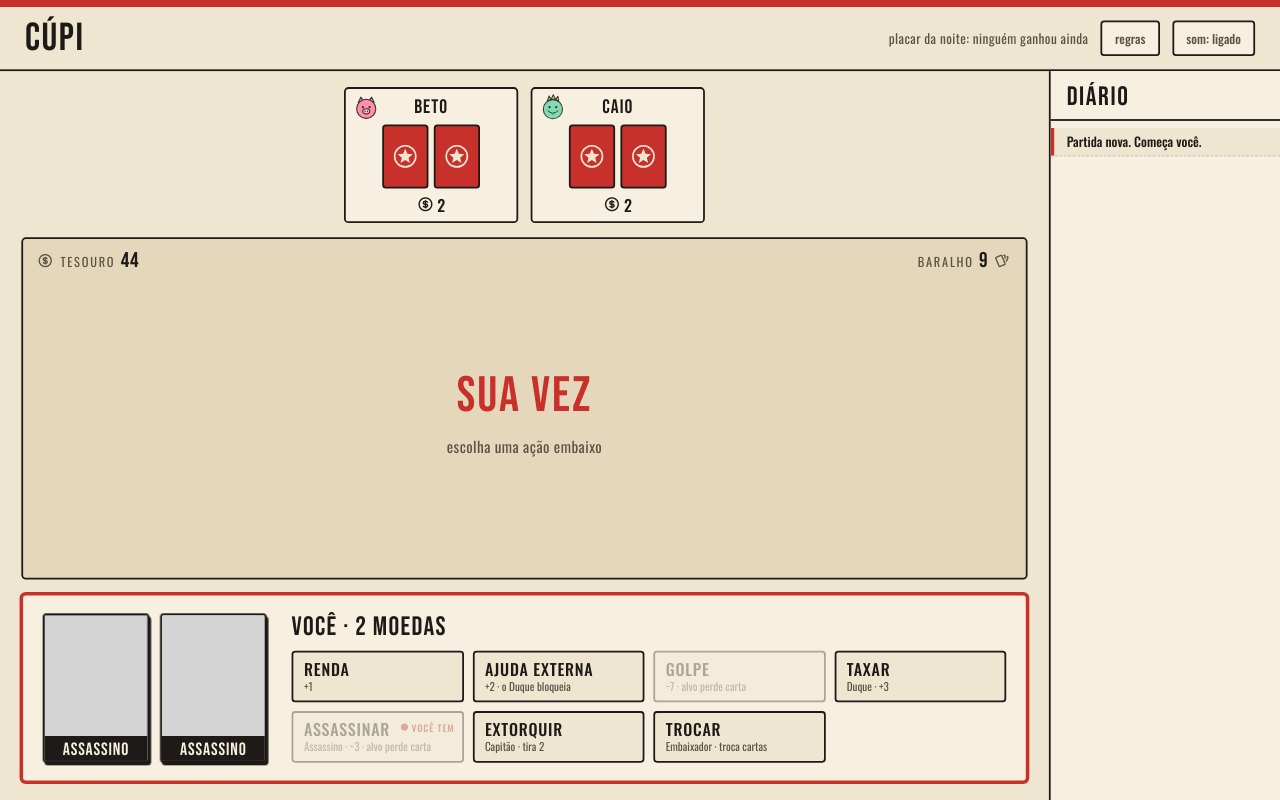
Test case: dica rápida nas ações › passar o mouse mostra o balão; sair esconde
Hover over the button "taxar Duque · +3": (920, 676) [834,651,1006,702]
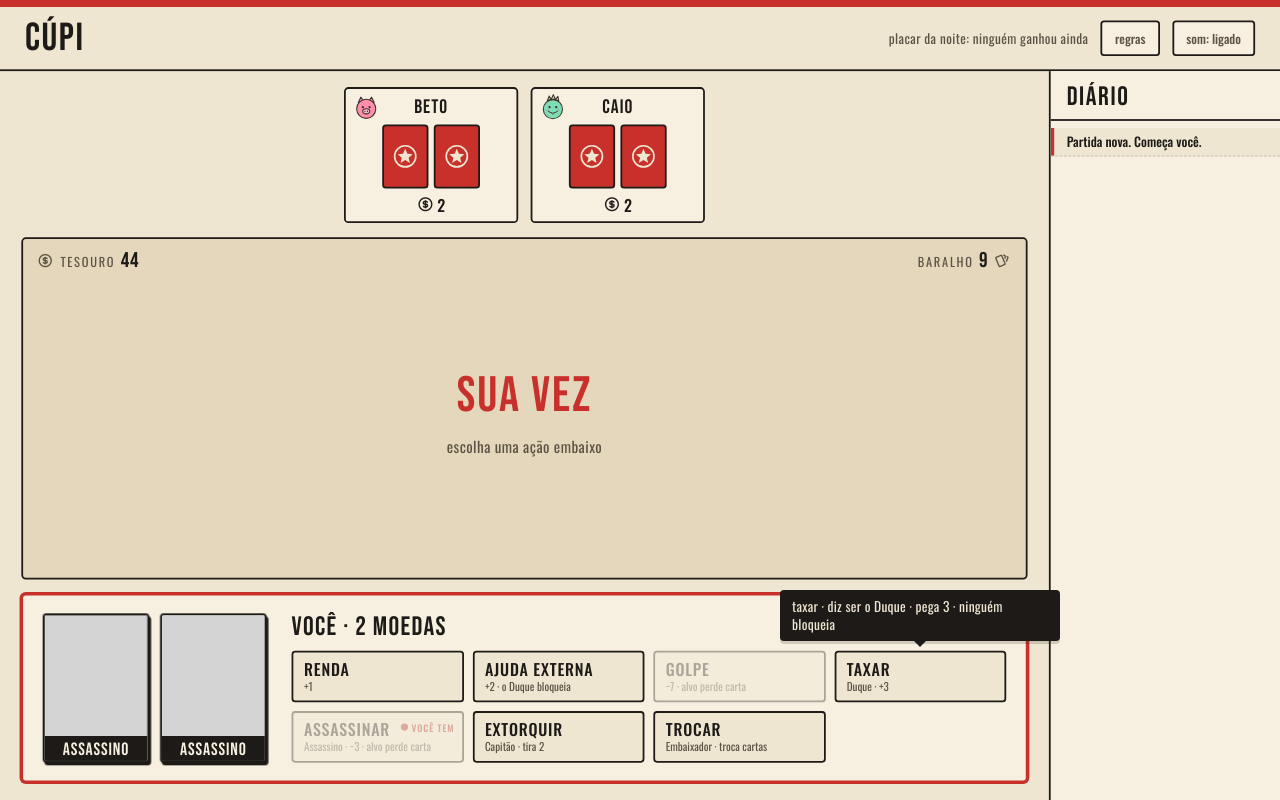
Result: the text with class "cp-tip" reads "taxar · diz ser o Duque · pega 3 · ninguém bloqueia" at [792,596,1003,634]
Move the pointer off the button "taxar Duque · +3", box [834,651,1006,702]
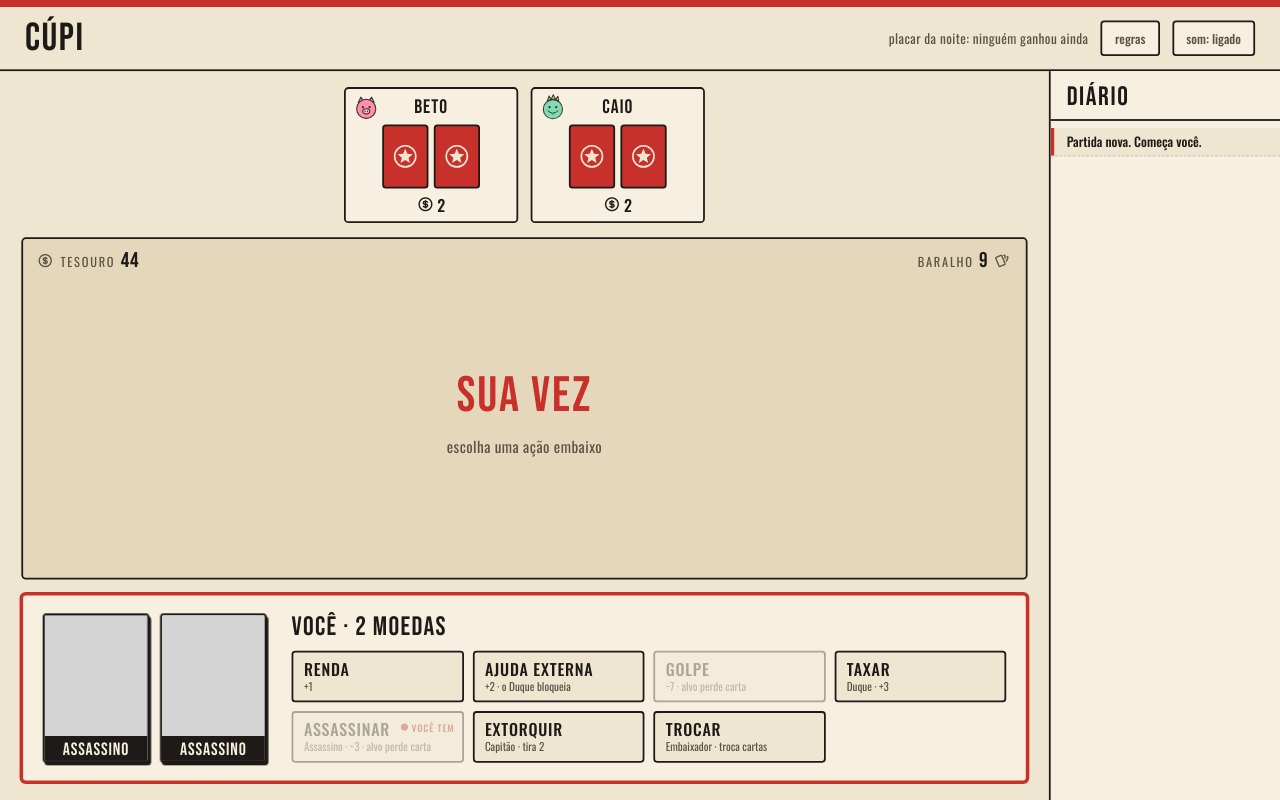
Result: the text with class "cp-tip" is gone
